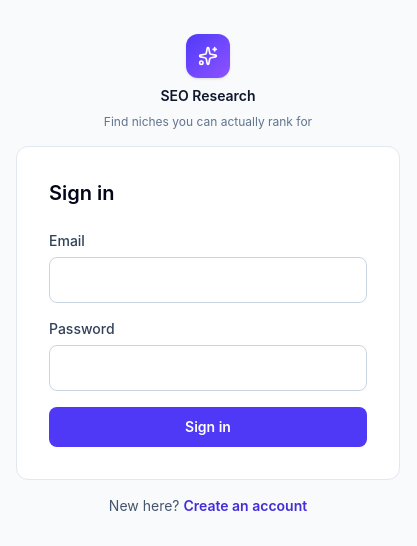
it: authentication form › submits credentials and shows the same message for invalid sign-in
The width and height of the screenshot is (417, 546).
In the field labelled "Email": (208,280) [49,257,367,303], type "person@example.com"
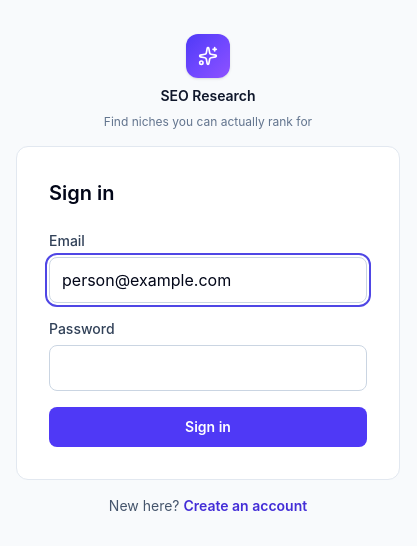
In the password field labelled "Password": (208,368) [49,345,367,391], type "incorrect password value"
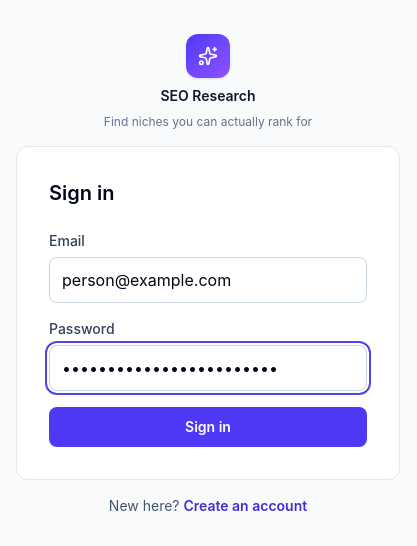
Click the button "Sign in": (208,427) [49,407,367,447]
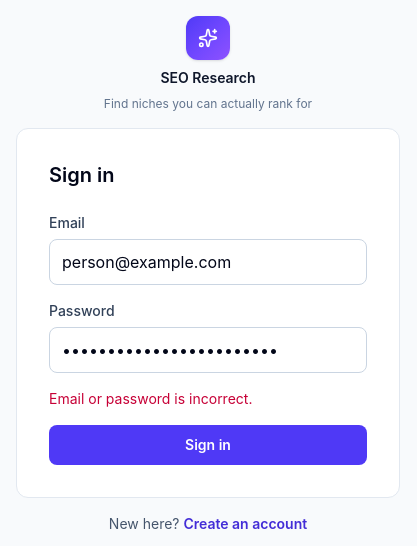
expect the message reads "Email or password is incorrect.": met, box [49,390,252,407]
